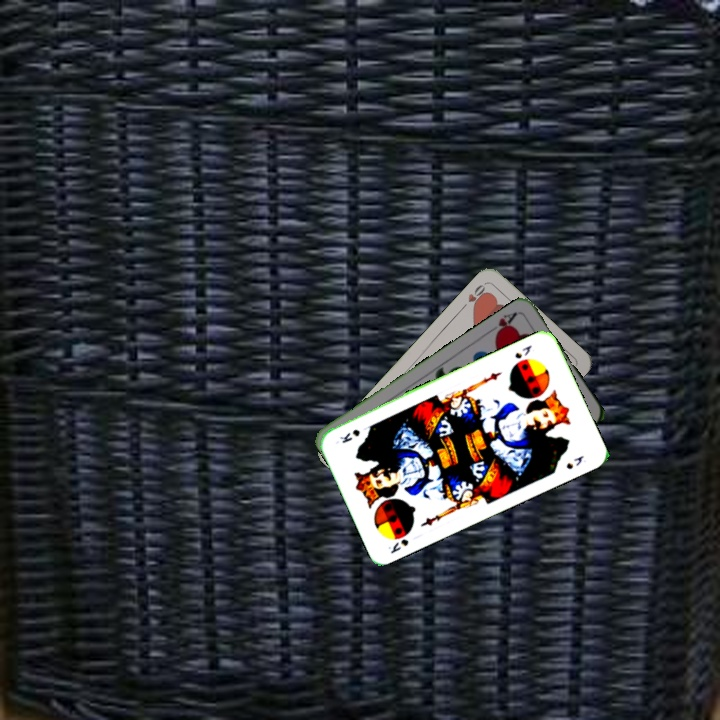HA: (484, 308, 520, 341)
HO: (457, 279, 490, 313)
SK: (384, 535, 411, 556), (511, 341, 534, 361)
